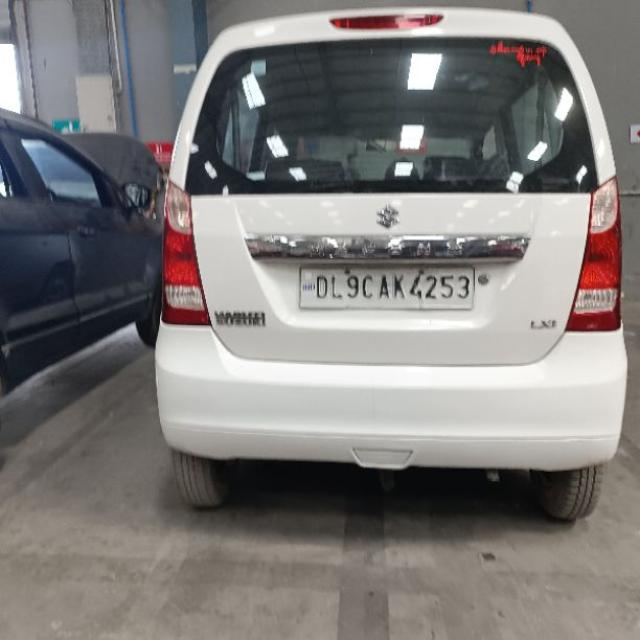license_plate: (297, 264, 476, 310)
